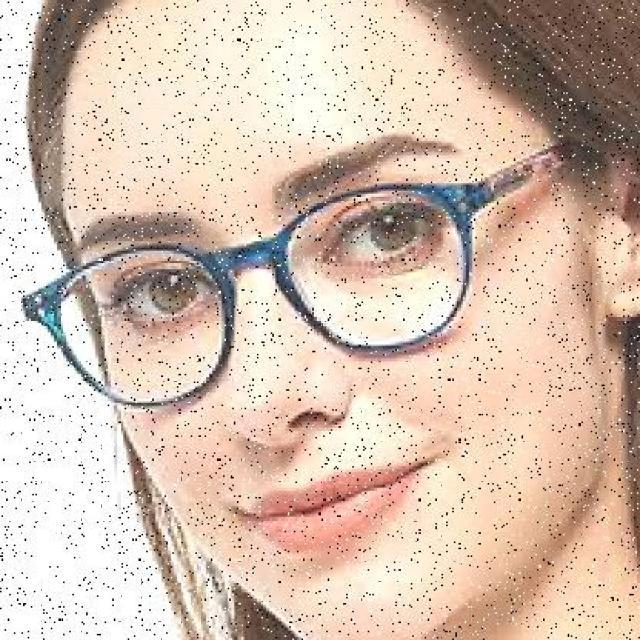mask: (8, 159, 504, 424)
